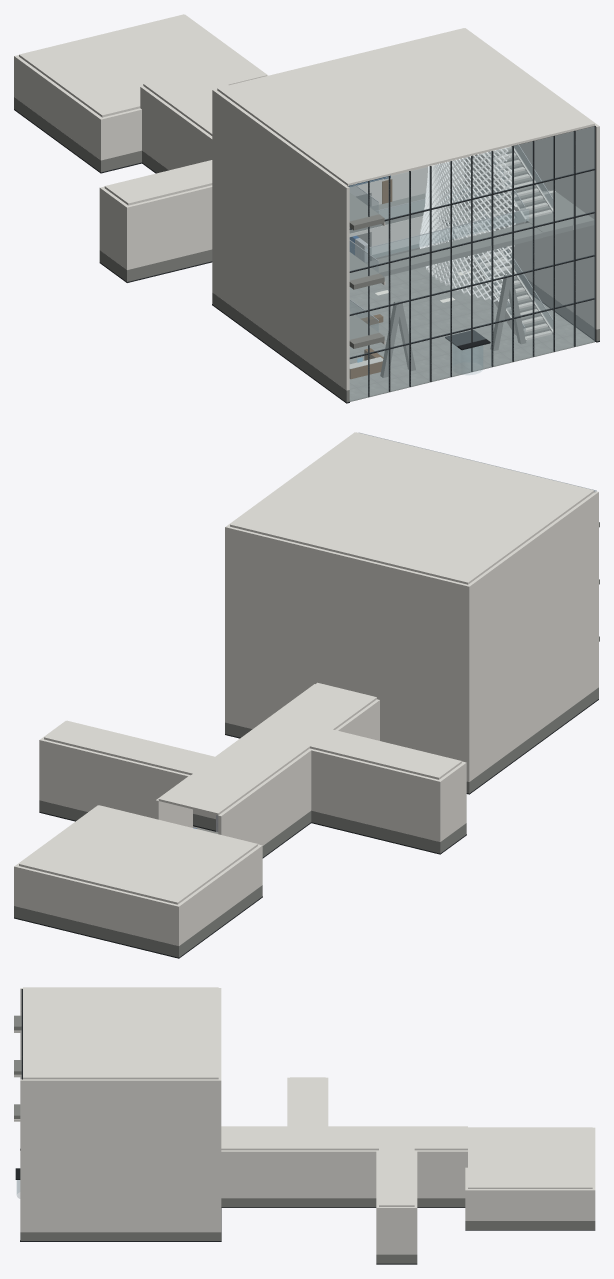
File: school.glb
The picture shows the model from 3 angles, top to bottom: view 1: azimuth 30°, elevation 25°; view 2: azimuth 150°, elevation 25°; view 3: azimuth 270°, elevation 25°; orthographic projection. The views are drawn at different scales.
Visible parts, largest first — view 1: tsh_school; view 2: tsh_school; view 3: tsh_school.
Part boxes in pixels (x1,y1,x2,y2): tsh_school: (14, 14, 599, 403); tsh_school: (14, 432, 599, 958); tsh_school: (14, 987, 595, 1264).
Size of what is drawn, in the model's own units: 34.62 by 20.86 by 65.82.
199 materials, 41 textured.
